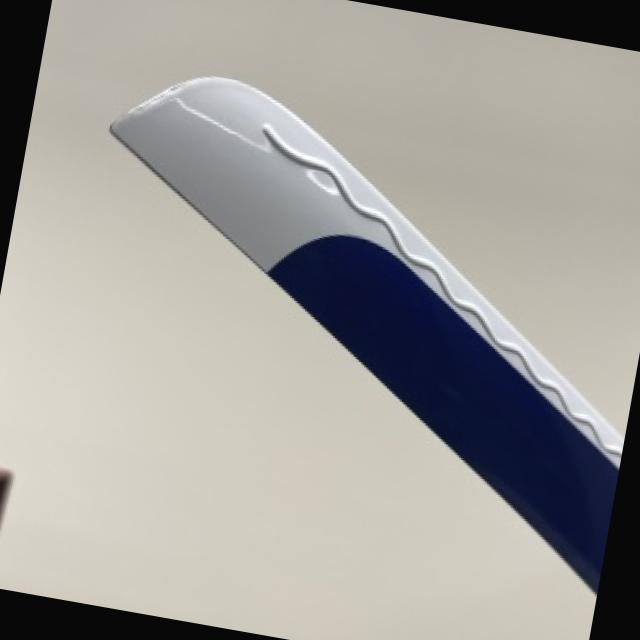healthy: (115, 75, 623, 588)
